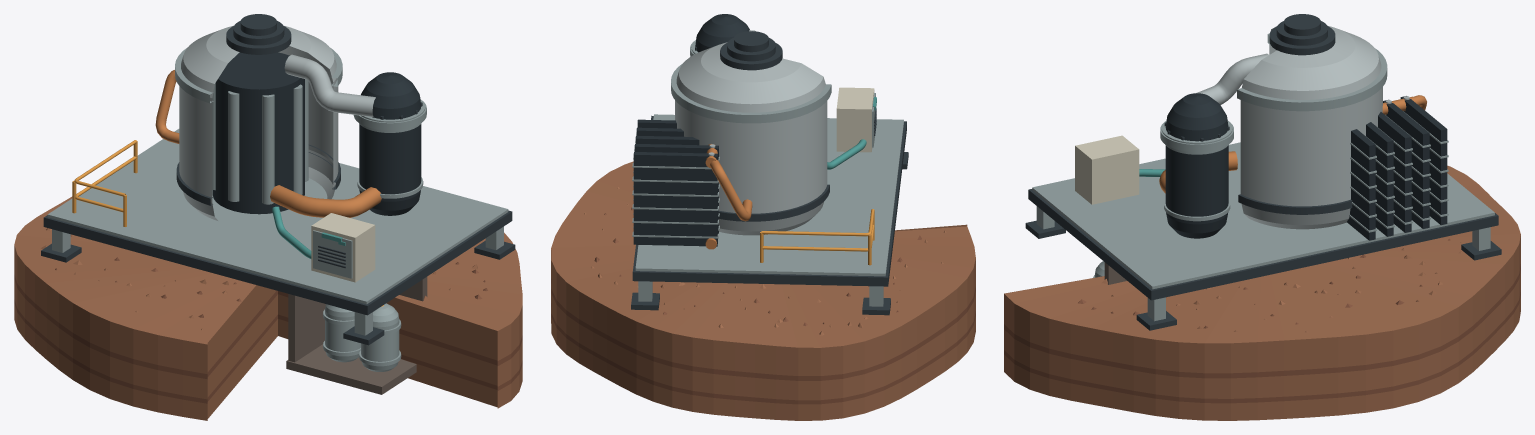
File: dfr_station.glb
3 views of the same model, side by side, from view 1: azimuth 30°, elevation 25°; view 2: azimuth 150°, elevation 25°; view 3: azimuth 270°, elevation 25° (orthographic). The views are drawn at different scales.
Visible parts, largest first — view 1: Regolith plinth, Service deck and retaining walls, Inner channel bundle, Heat exchanger, Outer jacket, Standby supply and controls, Drain receivers, Vessel head, Heat exchanger bank; view 2: Regolith plinth, Outer jacket, Service deck and retaining walls, Heat exchanger bank, Standby supply and controls, Vessel head, Heat exchanger; view 3: Regolith plinth, Service deck and retaining walls, Outer jacket, Heat exchanger bank, Heat exchanger, Standby supply and controls, Vessel head.
Boxes of the visible parts, x1,y1,x2,y2 form: Regolith plinth: (14, 196, 522, 420); Service deck and retaining walls: (41, 129, 515, 394); Inner channel bundle: (212, 52, 308, 214); Heat exchanger: (270, 54, 426, 217); Outer jacket: (175, 25, 342, 220); Standby supply and controls: (72, 140, 375, 282); Drain receivers: (323, 303, 401, 371); Vessel head: (226, 14, 291, 54); Heat exchanger bank: (155, 70, 179, 143); Regolith plinth: (551, 161, 975, 420); Outer jacket: (671, 42, 831, 235); Service deck and retaining walls: (631, 114, 908, 315); Heat exchanger bank: (632, 119, 752, 249); Standby supply and controls: (760, 87, 876, 265); Vessel head: (720, 31, 782, 70); Heat exchanger: (690, 14, 755, 56); Regolith plinth: (1004, 165, 1520, 420); Service deck and retaining walls: (1025, 142, 1501, 330); Outer jacket: (1237, 25, 1387, 229); Heat exchanger bank: (1347, 95, 1448, 240); Heat exchanger: (1159, 53, 1268, 238); Standby supply and controls: (1075, 135, 1165, 204); Vessel head: (1269, 14, 1335, 55).
Bounding box in the file's own units: 5.76 × 4.19 × 6.42.
